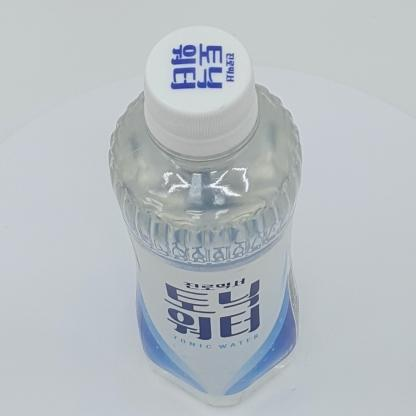----------300ML: (107, 24, 304, 407)
